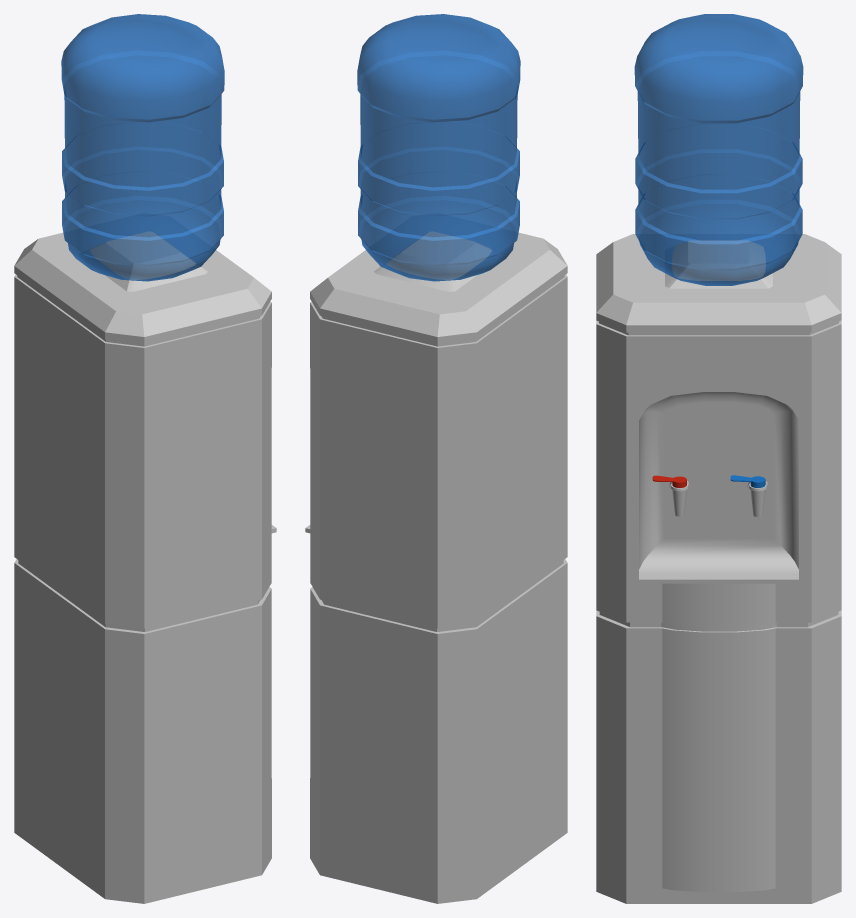
The model's file is WaterDispenser.obj.
3 views of the same model, side by side, from view 1: azimuth 30°, elevation 25°; view 2: azimuth 150°, elevation 25°; view 3: azimuth 270°, elevation 25° (orthographic). The views are drawn at different scales.
Visible parts, largest first — view 1: WhitePlastic, BluePlastic; view 2: WhitePlastic, BluePlastic; view 3: WhitePlastic, BluePlastic.
Part boxes in pixels (x1,y1,x2,y2): WhitePlastic: [14, 231, 276, 903]; BluePlastic: [61, 14, 224, 281]; WhitePlastic: [305, 231, 567, 903]; BluePlastic: [357, 14, 520, 281]; WhitePlastic: [596, 234, 841, 903]; BluePlastic: [634, 14, 803, 285].
Bounding box in the file's own units: 0.4133 × 1.79 × 0.484.
